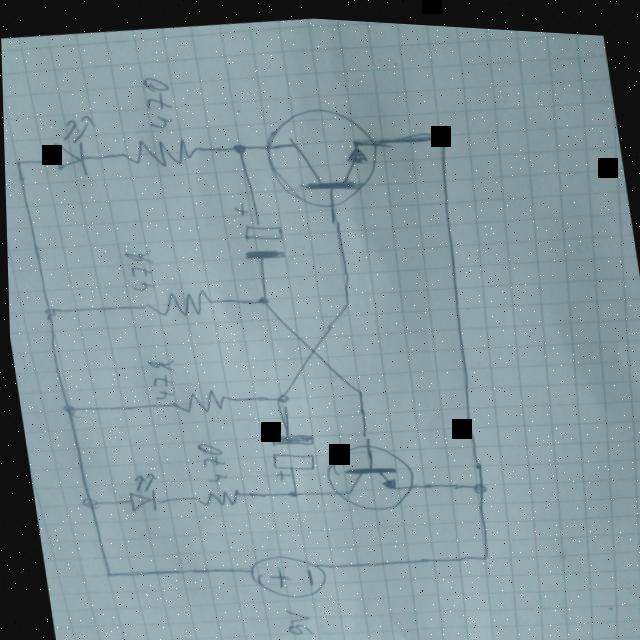capacitor: (230, 194, 287, 261), (264, 423, 317, 478)
crossover: (296, 332, 325, 358)
diode: (43, 107, 109, 182), (119, 466, 164, 514)
junction: (4, 150, 36, 174), (464, 470, 489, 493), (248, 284, 274, 306), (266, 384, 292, 406), (470, 538, 493, 561), (74, 490, 100, 510), (331, 288, 356, 308), (37, 300, 59, 322), (96, 561, 119, 582), (55, 399, 77, 420), (229, 134, 250, 156), (431, 123, 453, 142), (348, 378, 368, 395), (283, 482, 300, 496)
resistor: (111, 126, 210, 176), (139, 280, 217, 321), (162, 379, 237, 418), (182, 478, 254, 513)
source: (243, 541, 328, 602)
text: (138, 68, 179, 130), (189, 432, 229, 487), (120, 240, 159, 293), (141, 349, 180, 400), (277, 599, 310, 637)
transistor: (257, 93, 387, 212), (318, 430, 416, 513)
